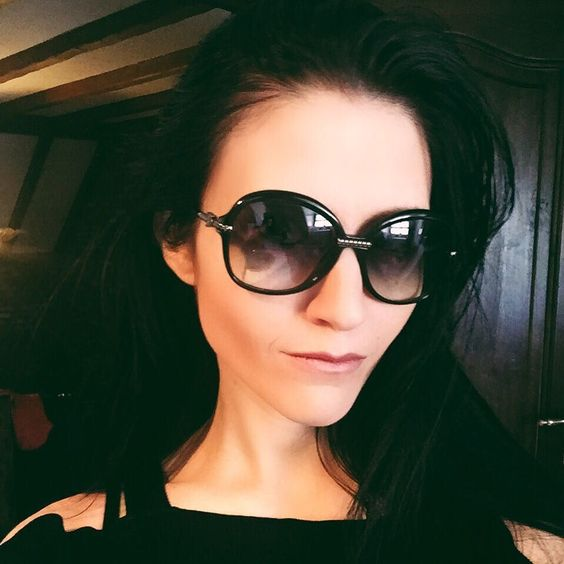sunglasses: (228, 204, 426, 300)
